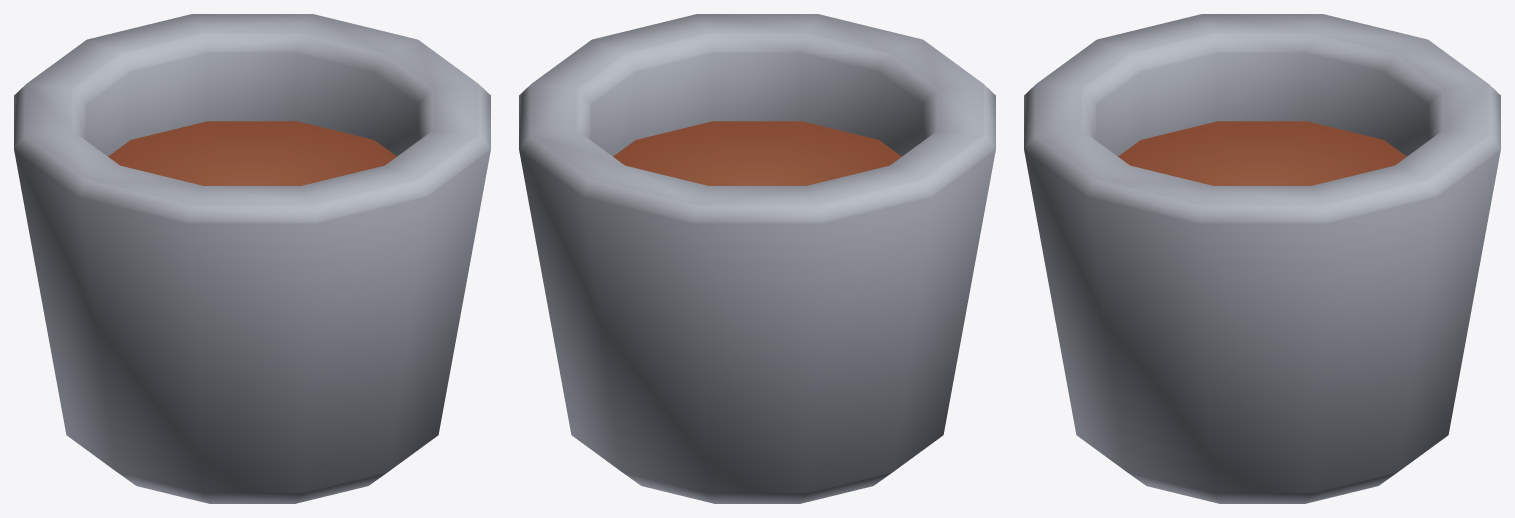
File: pot-b-medium.glb
The picture shows the model from 3 angles, left to right: view 1: azimuth 30°, elevation 25°; view 2: azimuth 150°, elevation 25°; view 3: azimuth 270°, elevation 25°; orthographic projection.
Visible parts, largest first — view 1: pot_B_medium; view 2: pot_B_medium; view 3: pot_B_medium.
Part boxes in pixels (x1,y1,x2,y2): pot_B_medium: (14, 14, 490, 503); pot_B_medium: (519, 14, 995, 503); pot_B_medium: (1024, 14, 1500, 503).
Size of the model in its own units: 0.9904 by 0.75 by 0.9904.
1 material, 1 textured.
